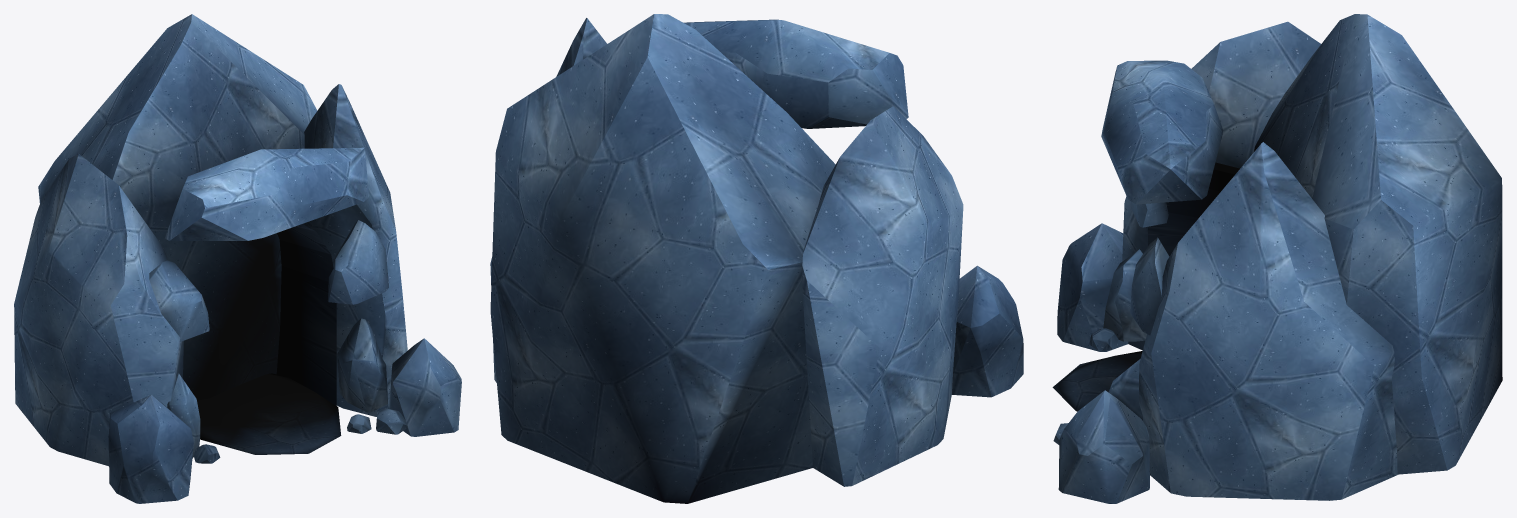
The model's file is cave_mouth_ice_lod1.glb.
The picture shows the model from 3 angles, left to right: view 1: azimuth 30°, elevation 25°; view 2: azimuth 150°, elevation 25°; view 3: azimuth 270°, elevation 25°; orthographic projection. The views are drawn at different scales.
Parts seen in each view (by area): view 1: cave_mouth_ice_lod1; view 2: cave_mouth_ice_lod1; view 3: cave_mouth_ice_lod1.
Part boxes in pixels (left/top/right/bottom): cave_mouth_ice_lod1: left=14, top=14, right=461, bottom=503; cave_mouth_ice_lod1: left=490, top=14, right=1023, bottom=503; cave_mouth_ice_lod1: left=1052, top=14, right=1502, bottom=503.
Size of the model in its own units: 2.99 by 2.91 by 2.94.
2 materials, 1 textured.
